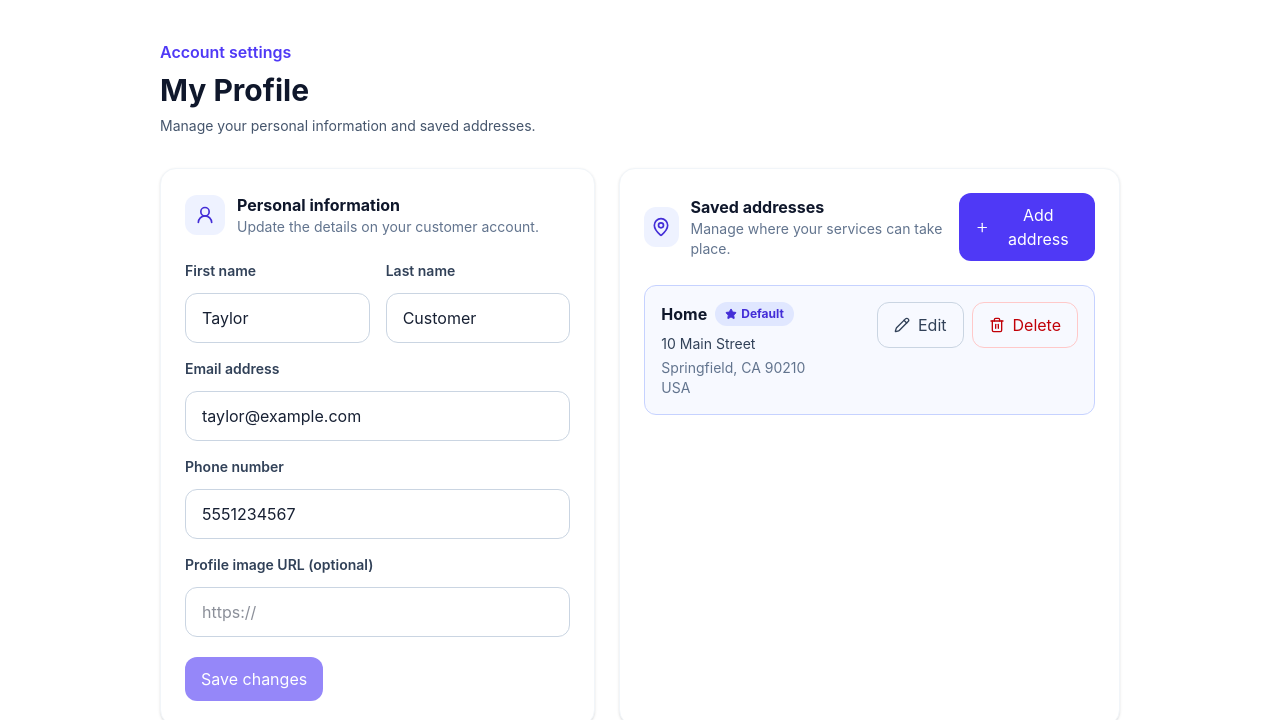
Test: CustomerProfilePage › asks before deleting an address and removes it after success
The image size is (1280, 720).
Click the button with aria-label "Delete Home address" at [1025, 325], box [972,302,1078,348]
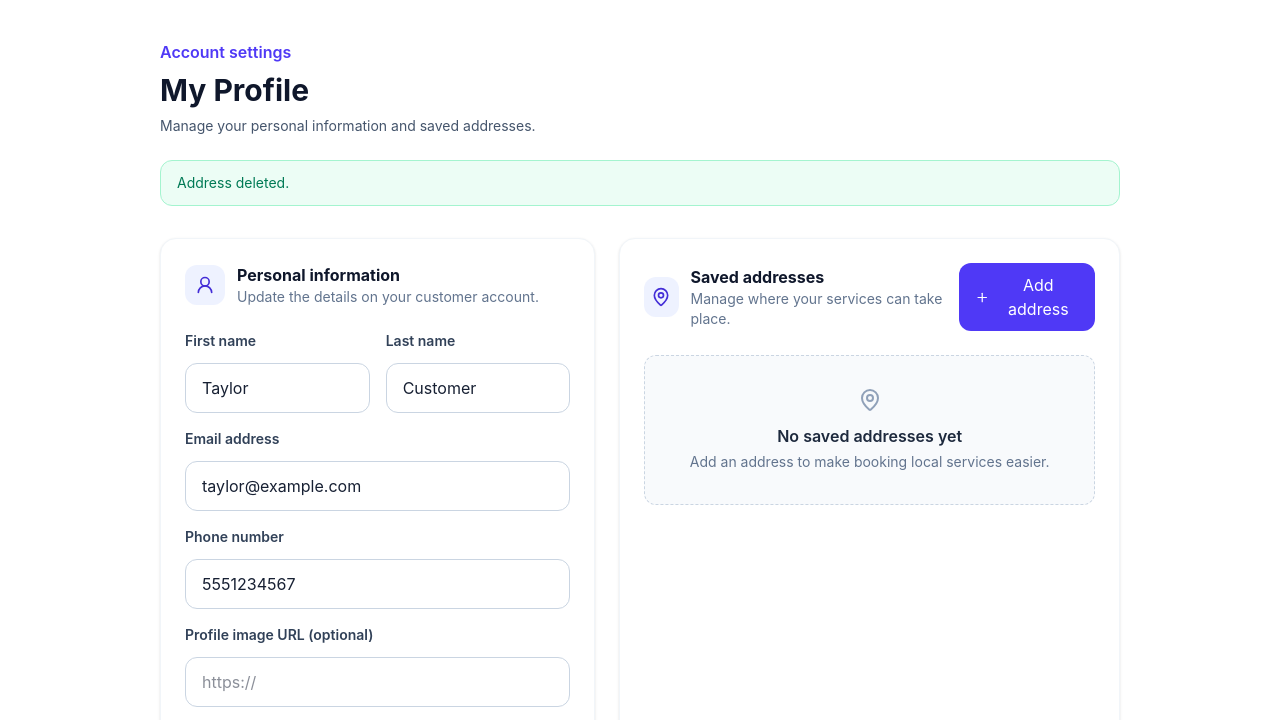
expect the text "10 Main Street" is gone: met
